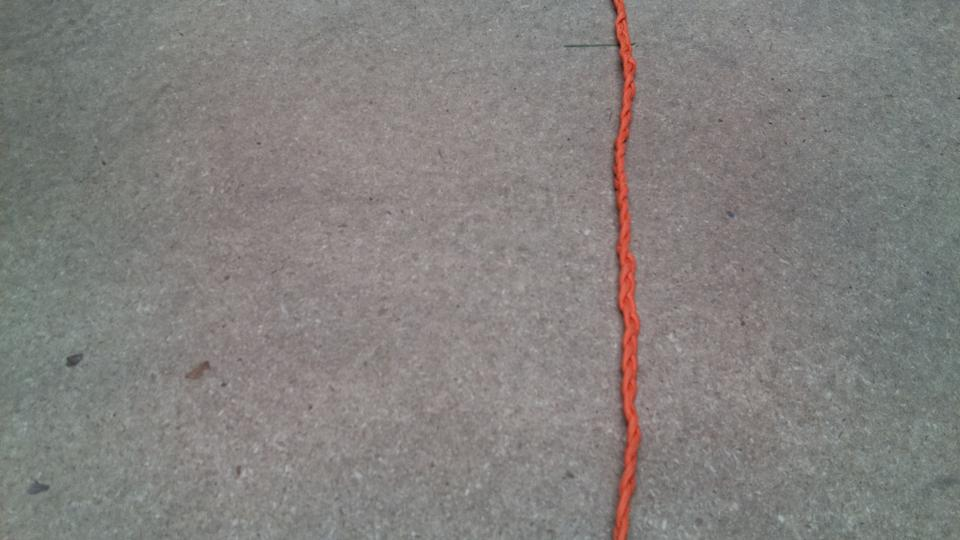rope: (600, 1, 654, 540)
